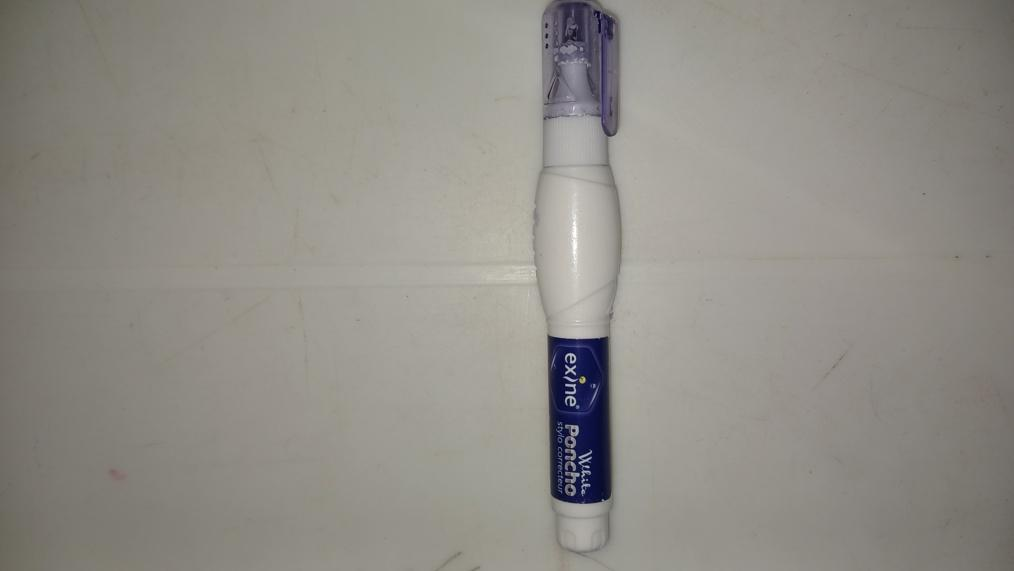Correction pen: (536, 0, 623, 552)
